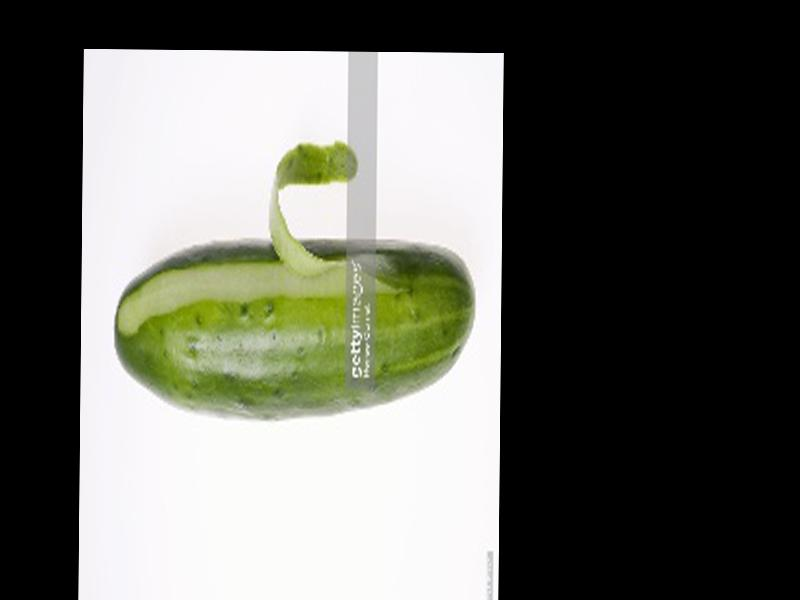Cucumber: (111, 233, 476, 420)
